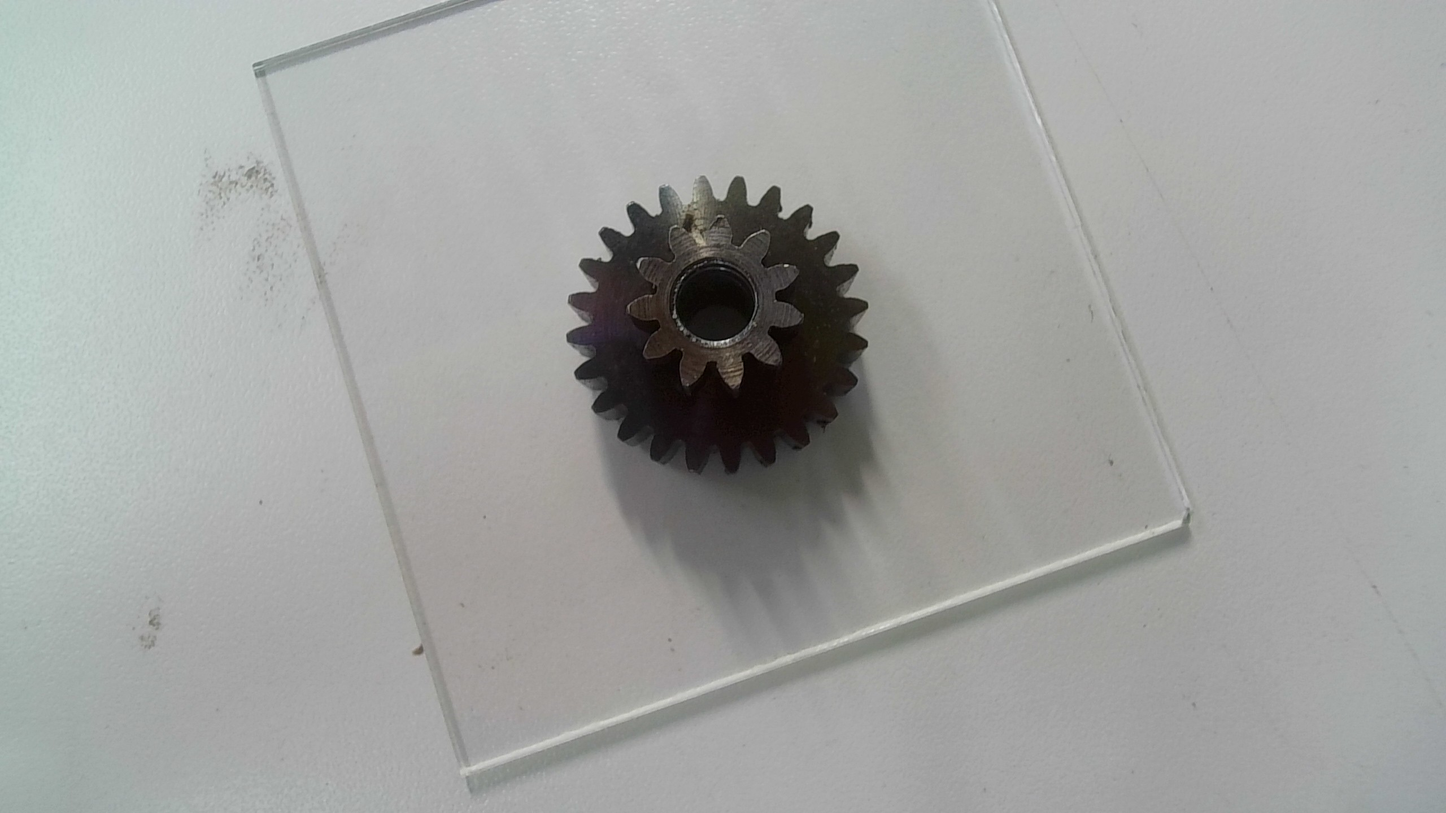gear: (567, 162, 873, 477)
